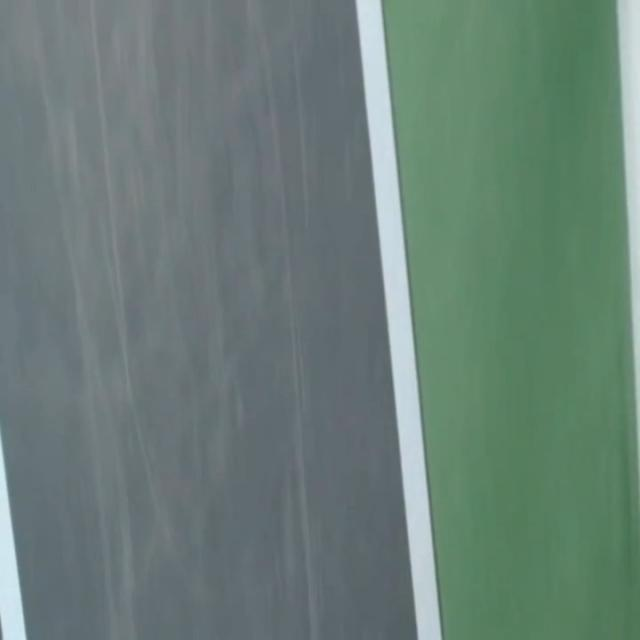right: (356, 0, 441, 639)
